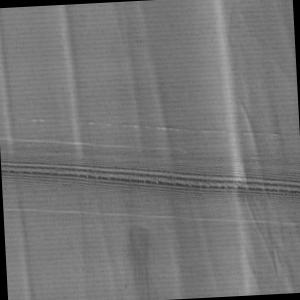Stain: (123, 218, 157, 300)
Wrinkle: (202, 1, 300, 297), (140, 1, 191, 300), (1, 7, 39, 300), (53, 5, 93, 170)
